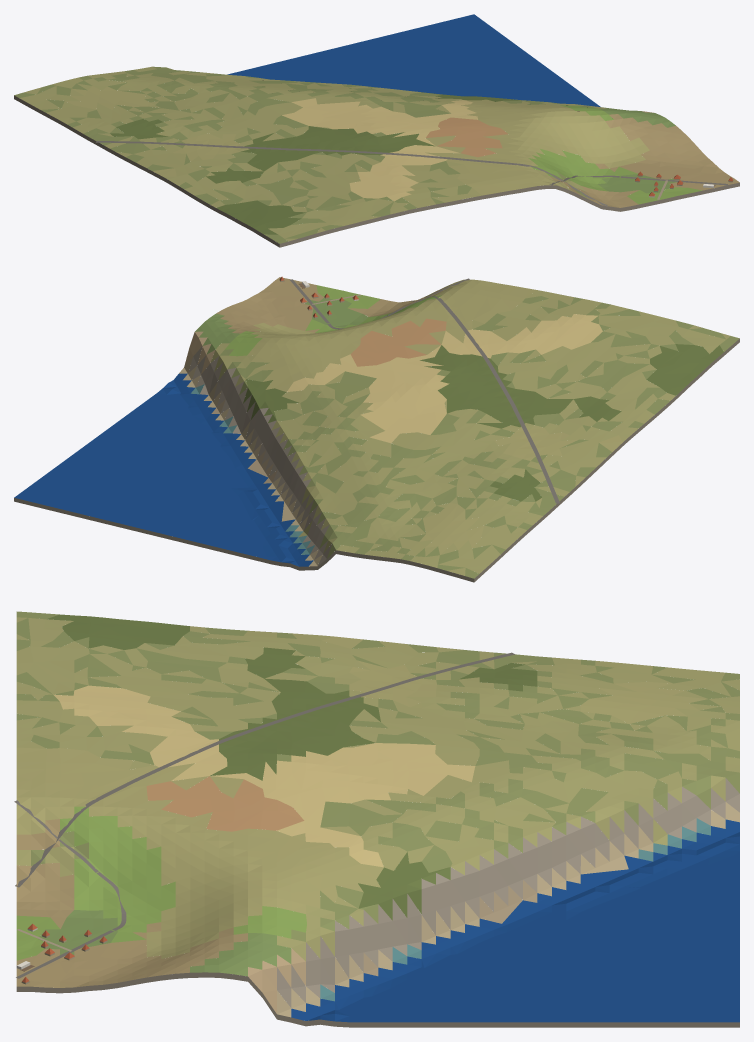
The model's file is parca_+10_+1-uzak.glb.
The picture shows the model from 3 angles, top to bottom: view 1: azimuth 30°, elevation 25°; view 2: azimuth 150°, elevation 25°; view 3: azimuth 270°, elevation 25°; orthographic projection. The views are drawn at different scales.
Visible parts, largest first — view 1: parca_+10_+1_arazi_uzak, parca_+10_+1_yollar_uzak; view 2: parca_+10_+1_arazi_uzak, parca_+10_+1_yollar_uzak; view 3: parca_+10_+1_arazi_uzak, parca_+10_+1_yollar_uzak.
Part boxes in pixels (left/top/right/bottom): parca_+10_+1_arazi_uzak: left=14, top=14, right=739, bottom=247; parca_+10_+1_yollar_uzak: left=96, top=140, right=727, bottom=206; parca_+10_+1_arazi_uzak: left=14, top=277, right=739, bottom=582; parca_+10_+1_yollar_uzak: left=290, top=278, right=559, bottom=503; parca_+10_+1_arazi_uzak: left=16, top=611, right=739, bottom=1027; parca_+10_+1_yollar_uzak: left=14, top=652, right=515, bottom=978.
Bounding box in the file's own units: 1005 × 173 × 1003.
